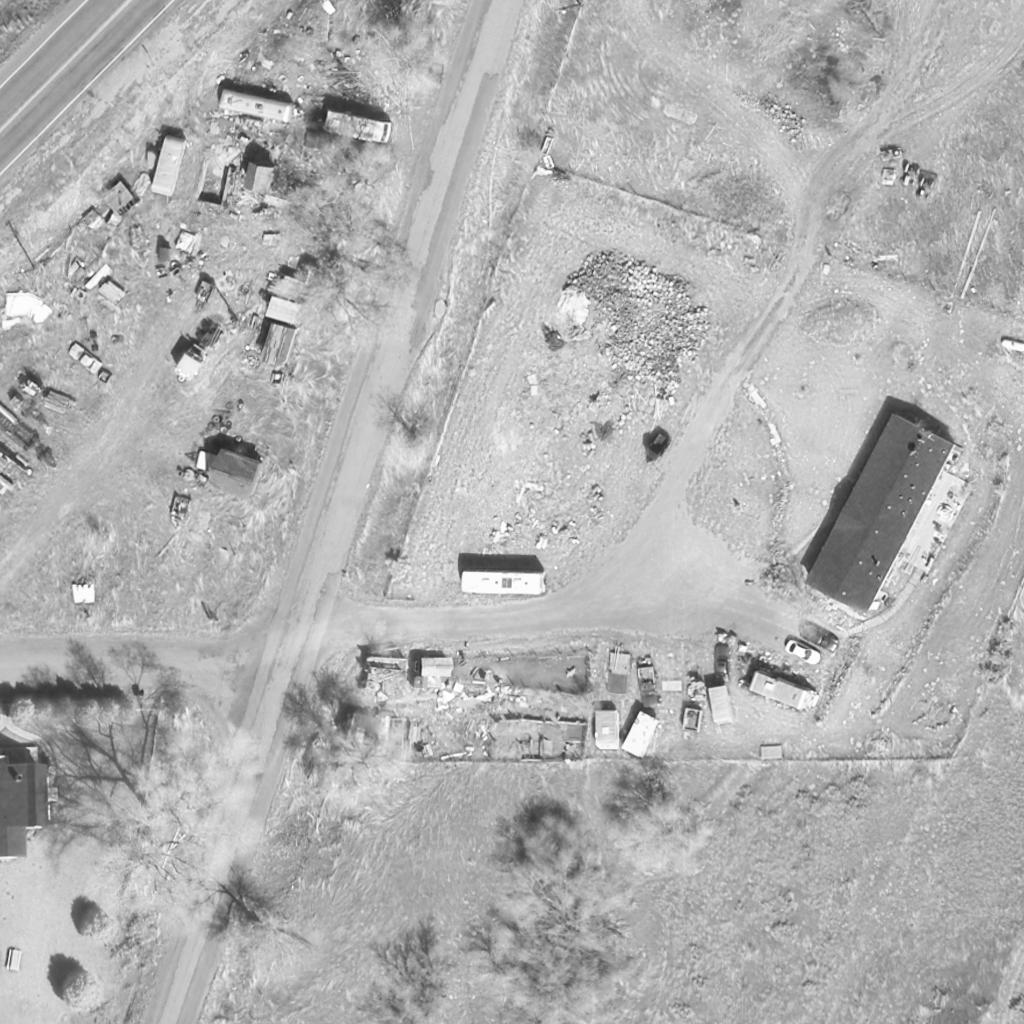vehicle: (169, 323, 229, 383), (222, 88, 294, 126), (150, 135, 190, 201), (322, 111, 394, 147), (749, 674, 815, 712), (461, 572, 547, 594), (621, 713, 657, 759), (65, 343, 105, 375), (799, 625, 841, 655), (780, 639, 822, 665), (596, 709, 622, 749), (707, 686, 733, 722), (639, 667, 661, 707), (713, 643, 731, 679)
